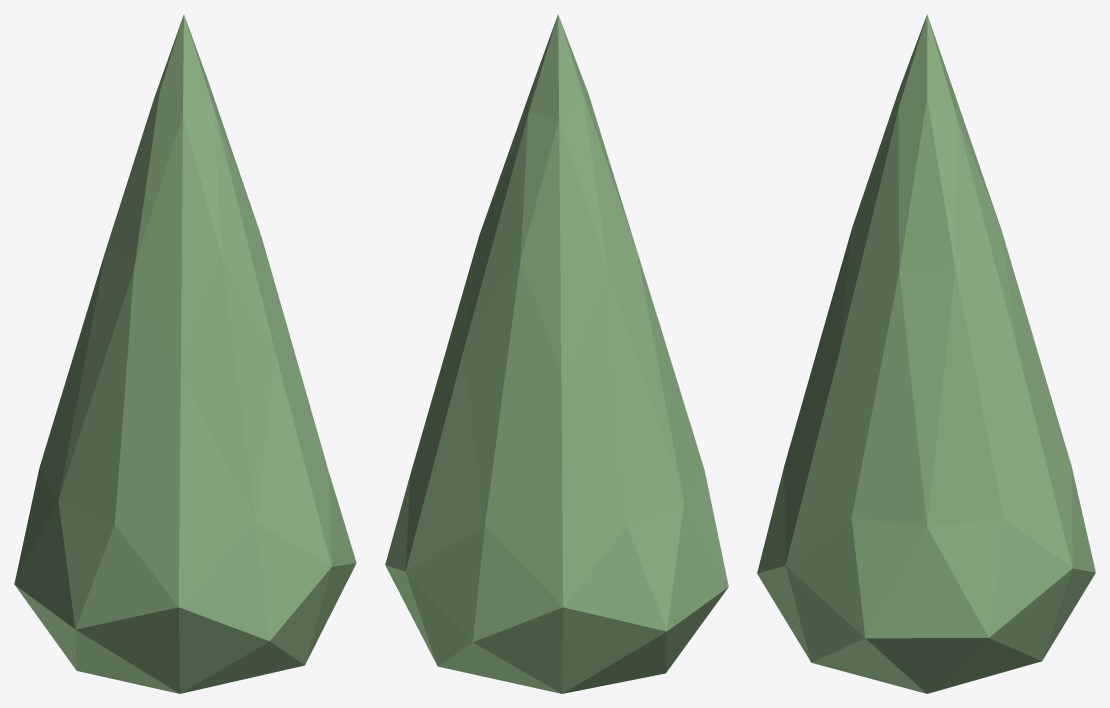
Rendered from tree-conifer-a-crown-far.glb.
The picture shows the model from 3 angles, left to right: view 1: azimuth 30°, elevation 25°; view 2: azimuth 150°, elevation 25°; view 3: azimuth 270°, elevation 25°; orthographic projection.
Visible parts, largest first — view 1: tree-conifer-a-crown-far; view 2: tree-conifer-a-crown-far; view 3: tree-conifer-a-crown-far.
Part boxes in pixels (<box>): tree-conifer-a-crown-far: <box>14,14,356,693</box>; tree-conifer-a-crown-far: <box>385,14,728,693</box>; tree-conifer-a-crown-far: <box>757,14,1095,693</box>.
Size of the model in its own units: 0.2893 by 0.65 by 0.3051.
